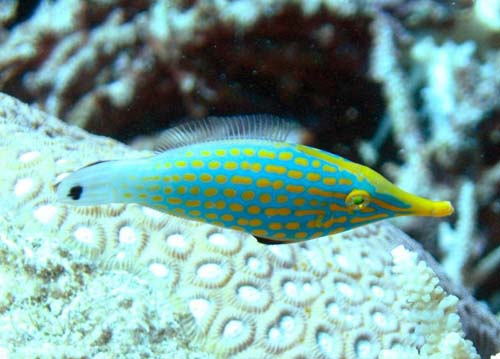fish: (55, 114, 454, 245)
